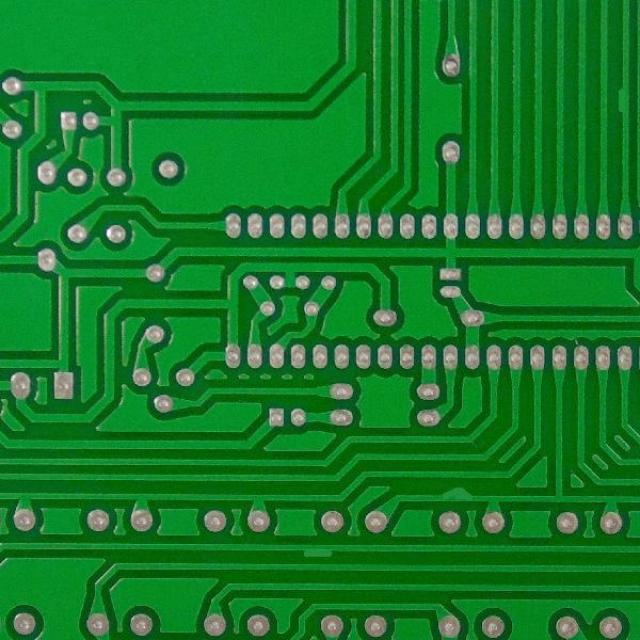Spur: (434, 482, 478, 507), (298, 540, 338, 562), (614, 80, 632, 119)
